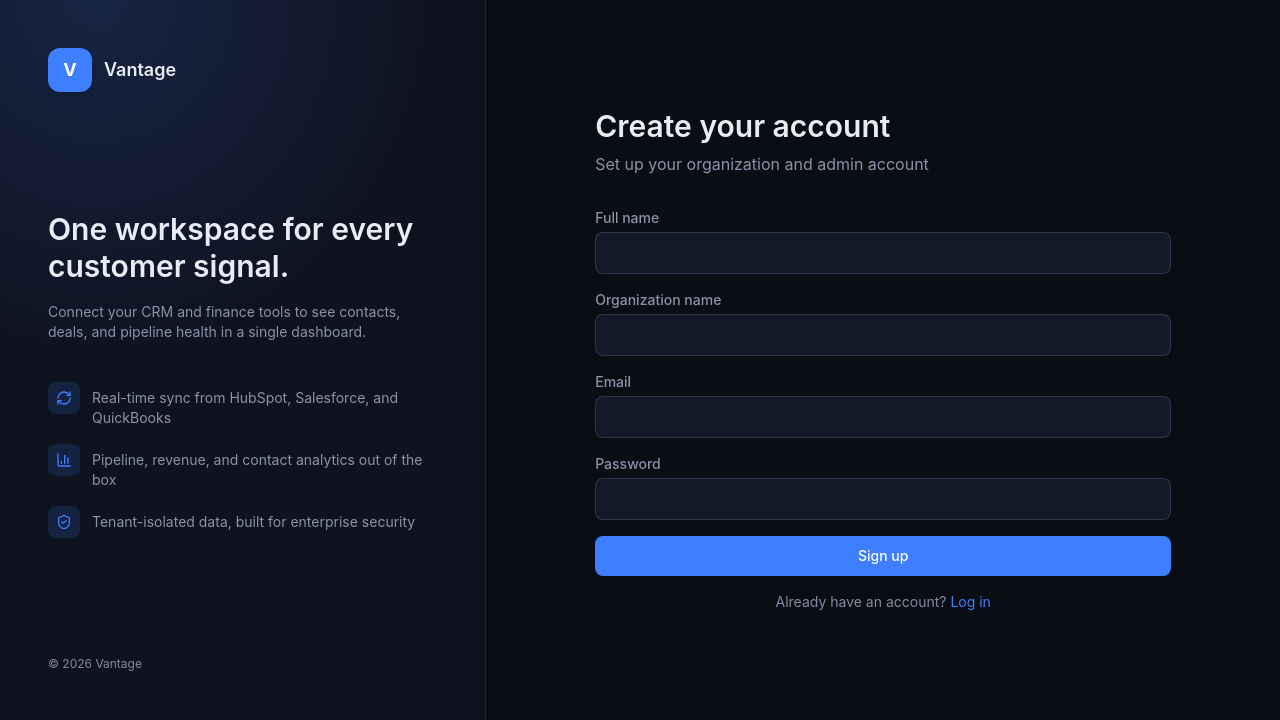
Test case: SignupPage › shows validation errors for invalid input
This screenshot has width=1280, height=720.
Type "not-an-email" into the field labelled "Email".
click(883, 417); type("not-an-email")  # box [595,396,1171,438]
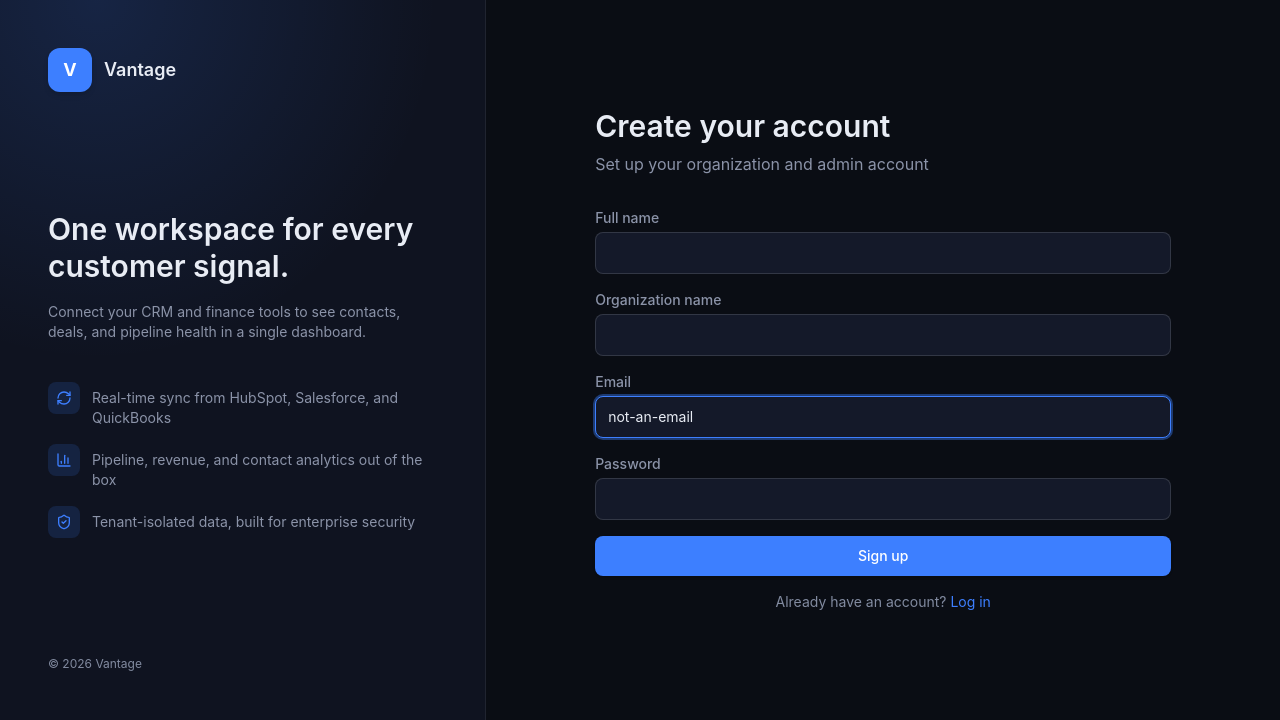
Type "short" into the password field labelled "Password".
click(883, 499); type("short")  # box [595,478,1171,520]
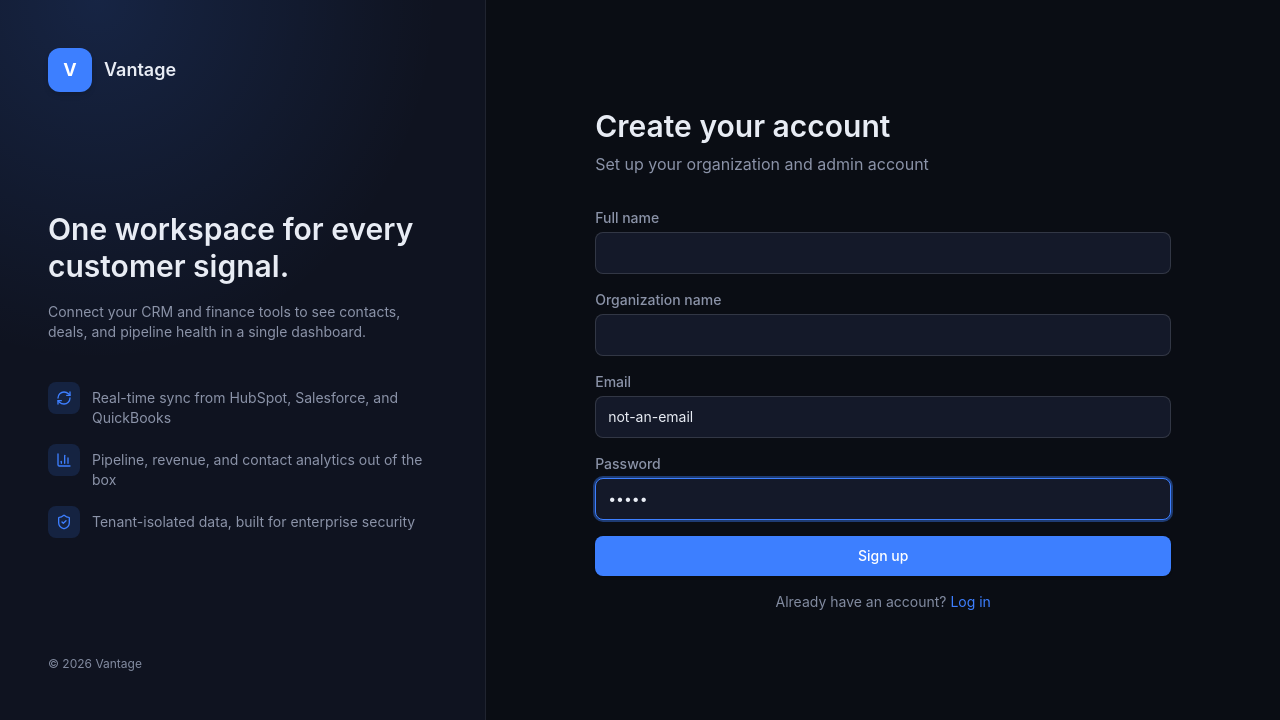
Click the button "Sign up".
click(883, 556)  # box [595,536,1171,576]
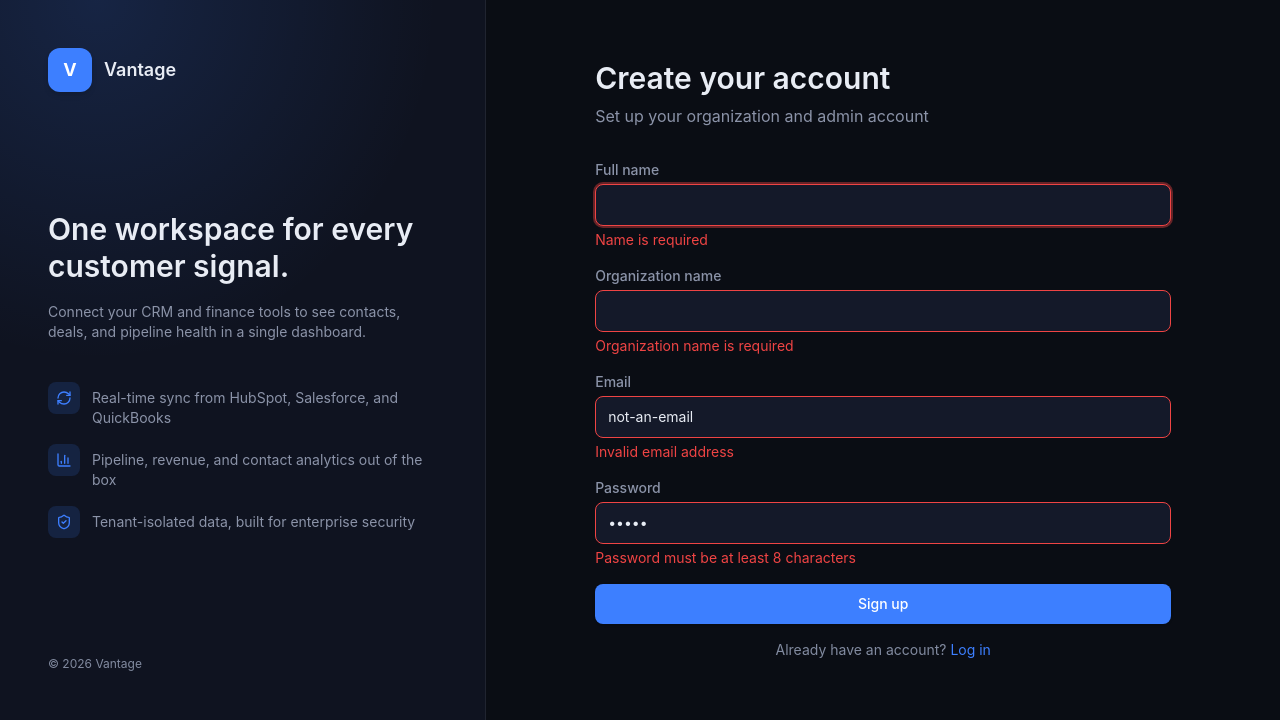
Expected: the text "Invalid email address" is shown, [595,443,734,460]
Expected: the text "Password must be at least 8 characters" is shown, [595,549,856,566]
